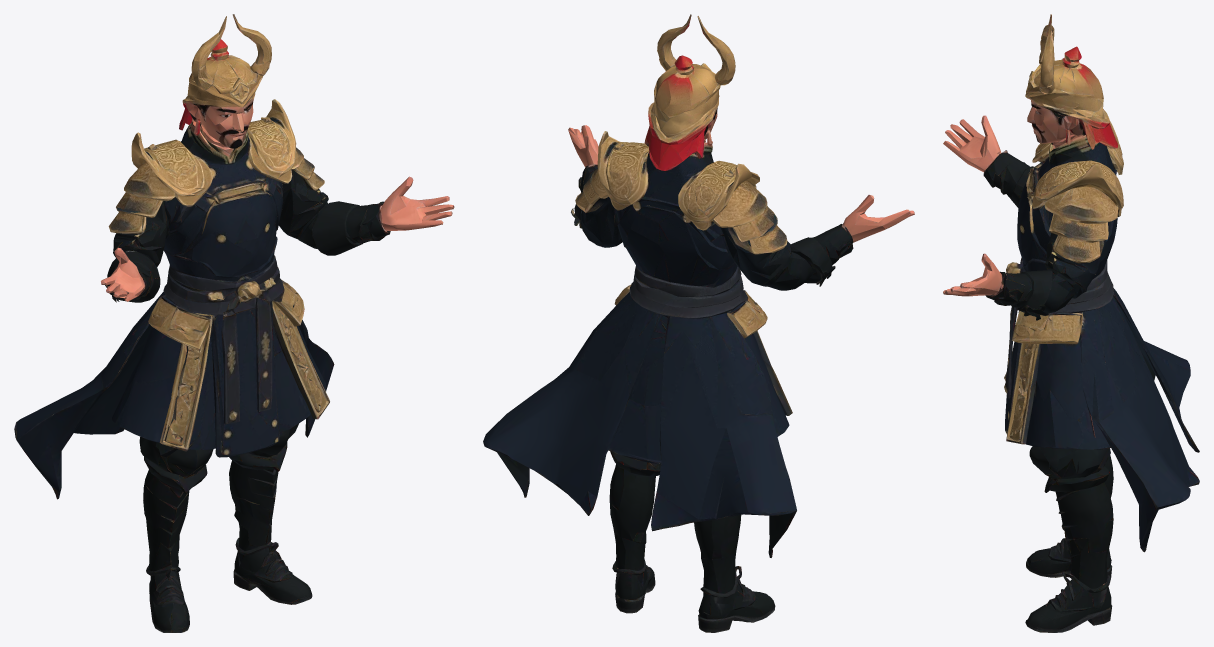
The model's file is char_H33_tran-nhat-duat.glb.
3 renders of one model, left to right at view 1: azimuth 30°, elevation 25°; view 2: azimuth 150°, elevation 25°; view 3: azimuth 270°, elevation 25°, orthographic. The views are drawn at different scales.
Size of the model in its own units: 1.16 by 1.9 by 0.7581.
Materials: 1 (1 with a texture image).
